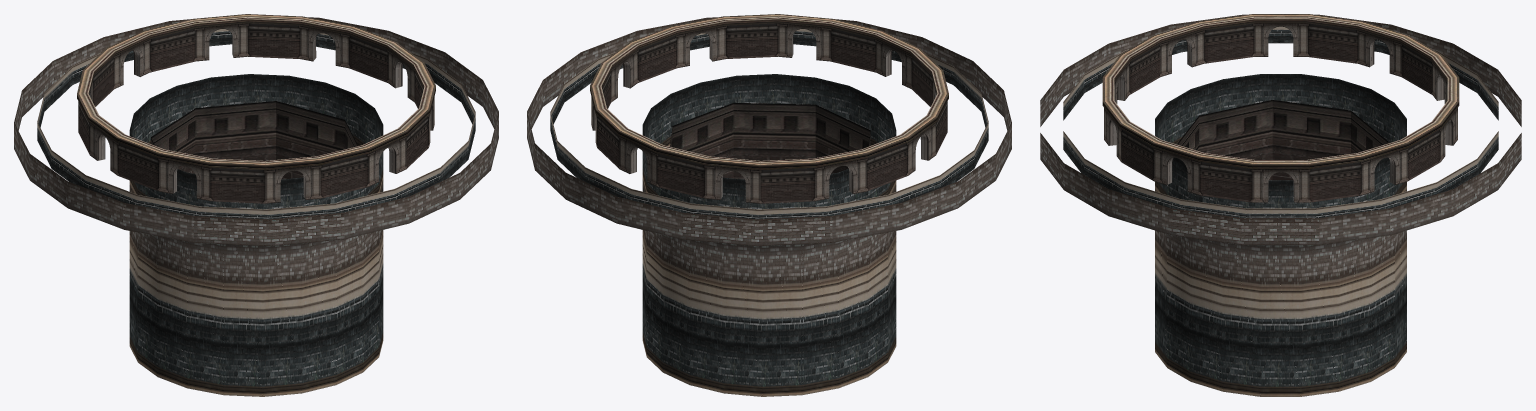
File: LionTemple01.FBX
The picture shows the model from 3 angles, left to right: view 1: azimuth 30°, elevation 25°; view 2: azimuth 150°, elevation 25°; view 3: azimuth 270°, elevation 25°; orthographic projection.
Visible parts, largest first — view 1: LionTemple01; view 2: LionTemple01; view 3: LionTemple01.
Part boxes in pixels (left/top/right/bottom): LionTemple01: left=14, top=14, right=498, bottom=396; LionTemple01: left=527, top=14, right=1011, bottom=396; LionTemple01: left=1040, top=14, right=1521, bottom=396.
Size of the model in its own units: 3885 by 2266 by 3885.
Materials: 2 (2 with a texture image).
